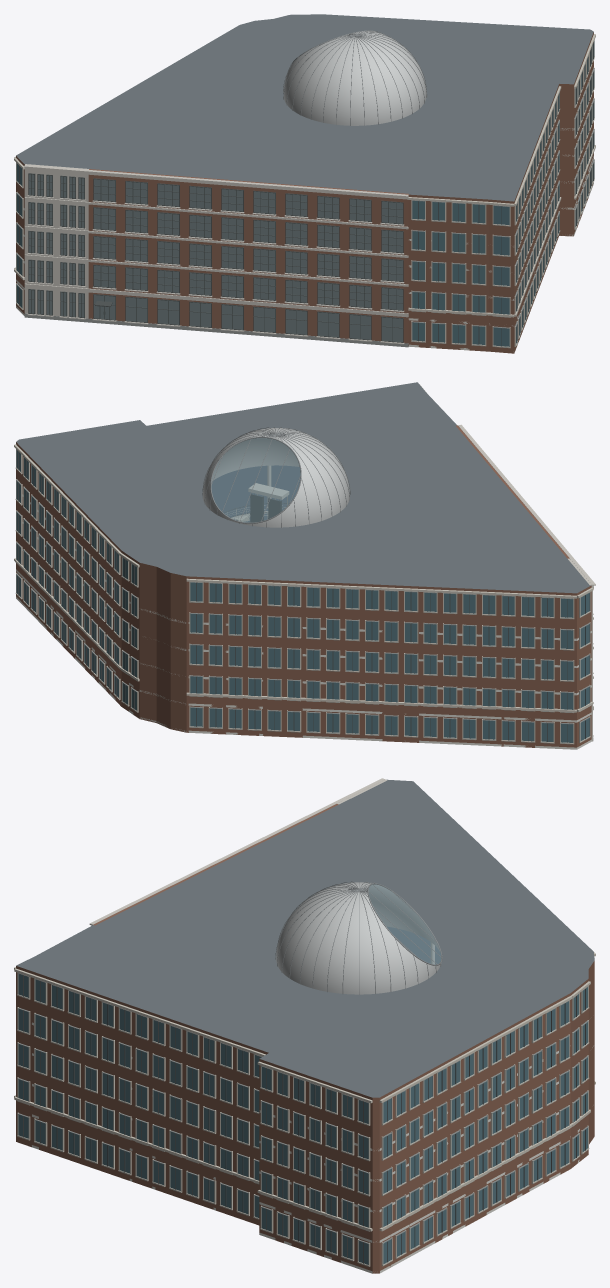
File: lrb-exterior-792b70673bc8.glb
3 renders of one model, top to bottom at view 1: azimuth 30°, elevation 25°; view 2: azimuth 150°, elevation 25°; view 3: azimuth 270°, elevation 25°, orthographic. The views are drawn at different scales.
Visible parts, largest first — view 1: LRB.001; view 2: LRB.001; view 3: LRB.001.
Boxes of the visible parts, bbox=[...] form: LRB.001: bbox=[14, 14, 595, 353]; LRB.001: bbox=[14, 382, 595, 749]; LRB.001: bbox=[14, 778, 595, 1273].
Bounding box in the file's own units: 89.68 × 32.11 × 68.9.
